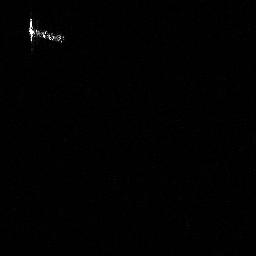ship: (25, 15, 67, 46)
